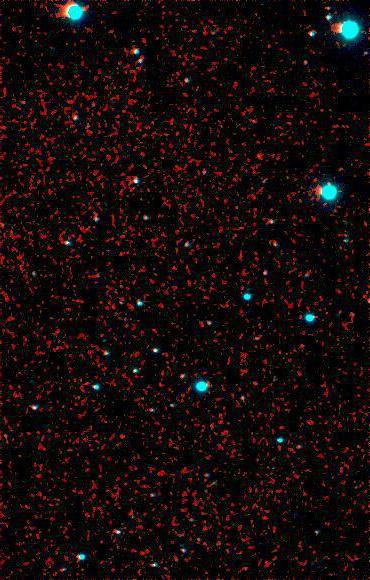star: (246, 140, 276, 170)
